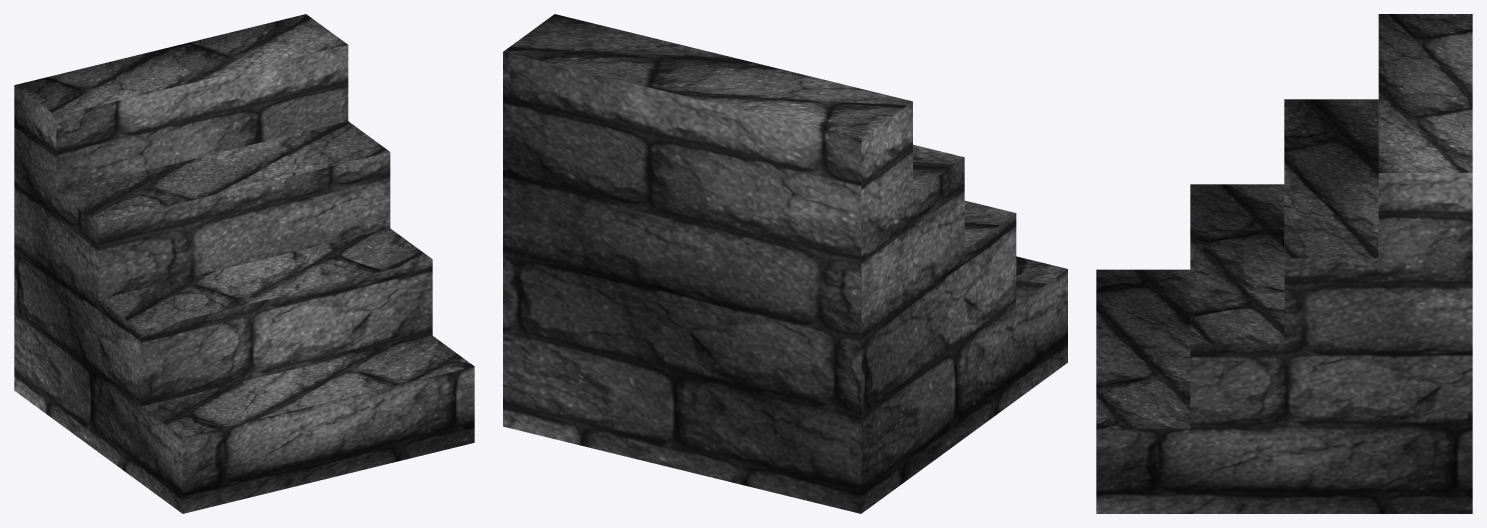
File: stone stairs small.glb
3 renders of one model, left to right at view 1: azimuth 30°, elevation 25°; view 2: azimuth 150°, elevation 25°; view 3: azimuth 270°, elevation 25°, orthographic. The views are drawn at different scales.
Visible parts, largest first — view 1: Steps, 3'; view 2: Steps, 3'; view 3: Steps, 3'.
Boxes of the visible parts, x1,y1,x2,y2 form: Steps, 3': (14,14,474,513); Steps, 3': (503,14,1067,513); Steps, 3': (1096,14,1472,513).
Bounding box in the file's own units: 0.9144 × 0.9144 × 0.9144.
Materials: 1 (1 with a texture image).
